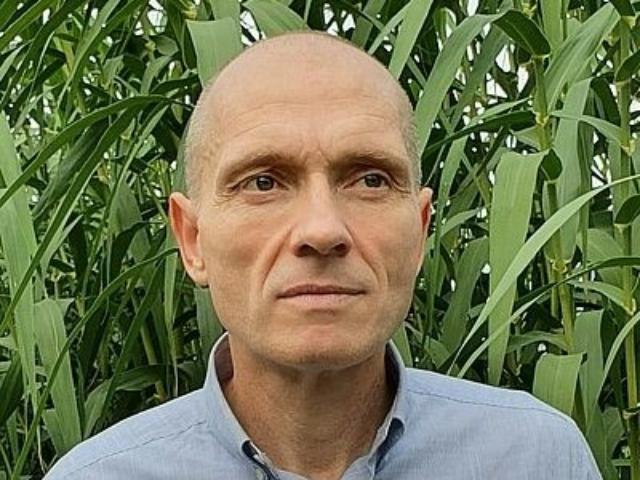crows_feet: (389, 176, 413, 204), (213, 179, 237, 203)
forehead: (226, 114, 258, 140), (365, 106, 393, 126)
frown_line: (313, 140, 332, 168)
gummy_smile: (258, 241, 284, 290), (356, 243, 380, 281)
